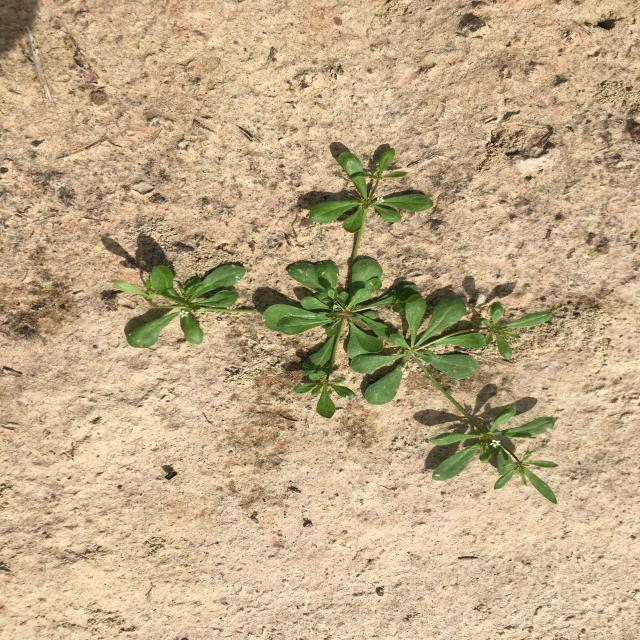Carpetweed: (114, 148, 558, 504)
